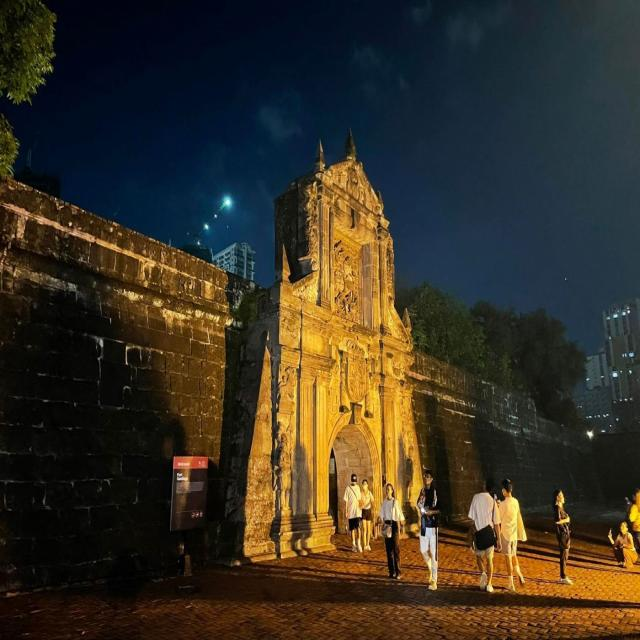Fort Santiago: (0, 129, 603, 598)
